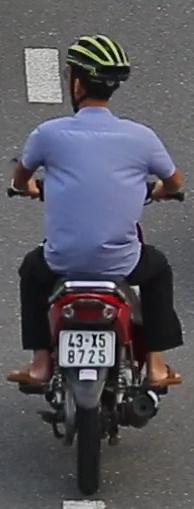LP: (55, 325, 118, 368)
helmet: (65, 29, 132, 121)
